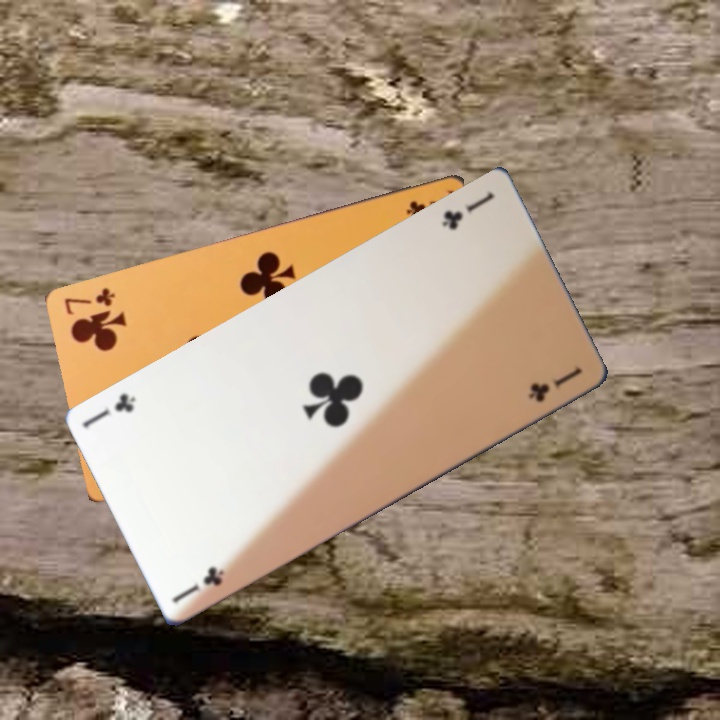1c: (165, 556, 239, 613), (78, 381, 151, 438), (523, 353, 596, 410), (435, 179, 508, 236)
7c: (55, 282, 118, 320)
